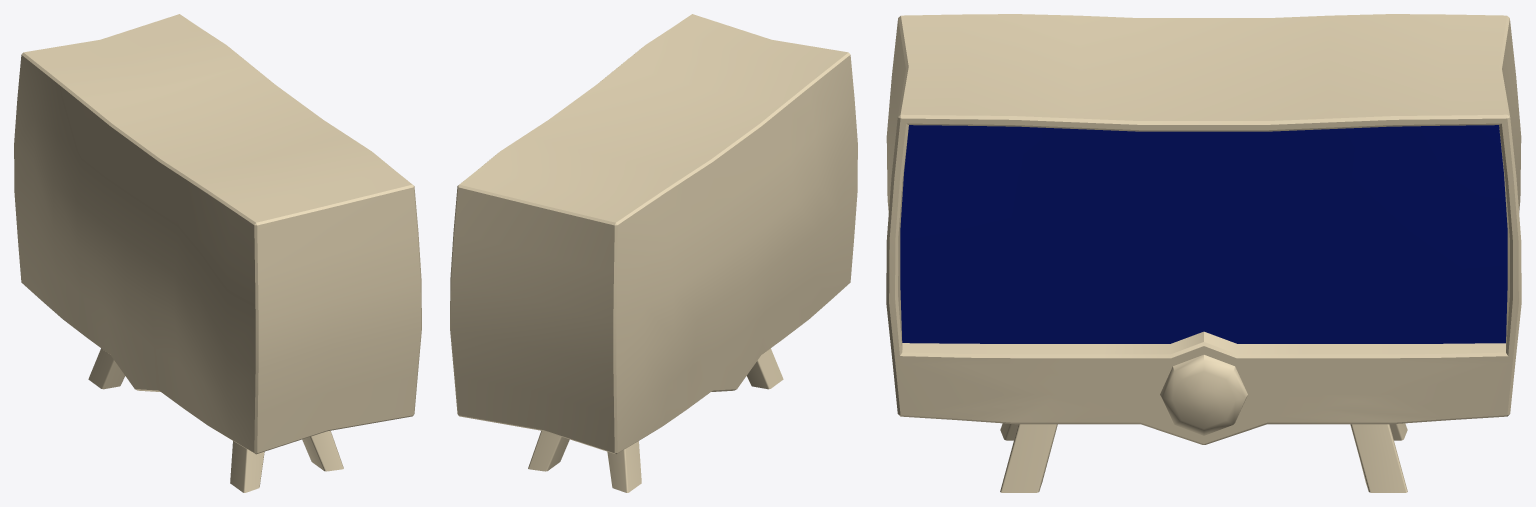
Rendered from Balance_Model00.fbx.
3 views of the same model, side by side, from view 1: azimuth 30°, elevation 25°; view 2: azimuth 150°, elevation 25°; view 3: azimuth 270°, elevation 25° (orthographic). The views are drawn at different scales.
Visible parts, largest first — view 1: Balance; view 2: Balance; view 3: Balance.
Part boxes in pixels (left/top/right/bottom): Balance: left=14, top=14, right=421, bottom=492; Balance: left=450, top=14, right=857, bottom=492; Balance: left=886, top=14, right=1521, bottom=492.
Bounding box in the file's own units: 8.79 × 13.73 × 19.88.
